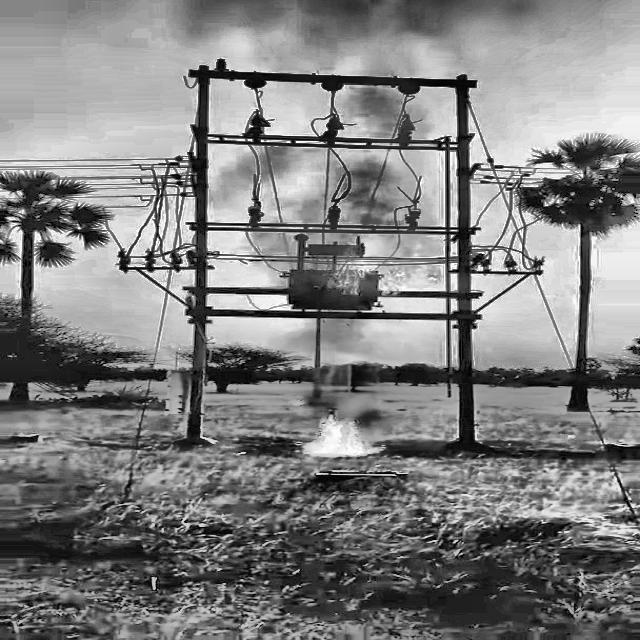Fire: (312, 240, 402, 312), (293, 407, 390, 464)
